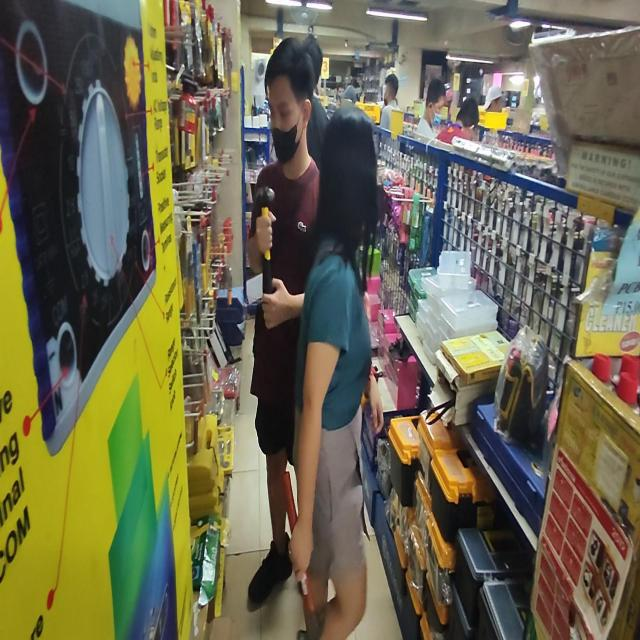hammer: (282, 469, 324, 640), (254, 185, 276, 292)
